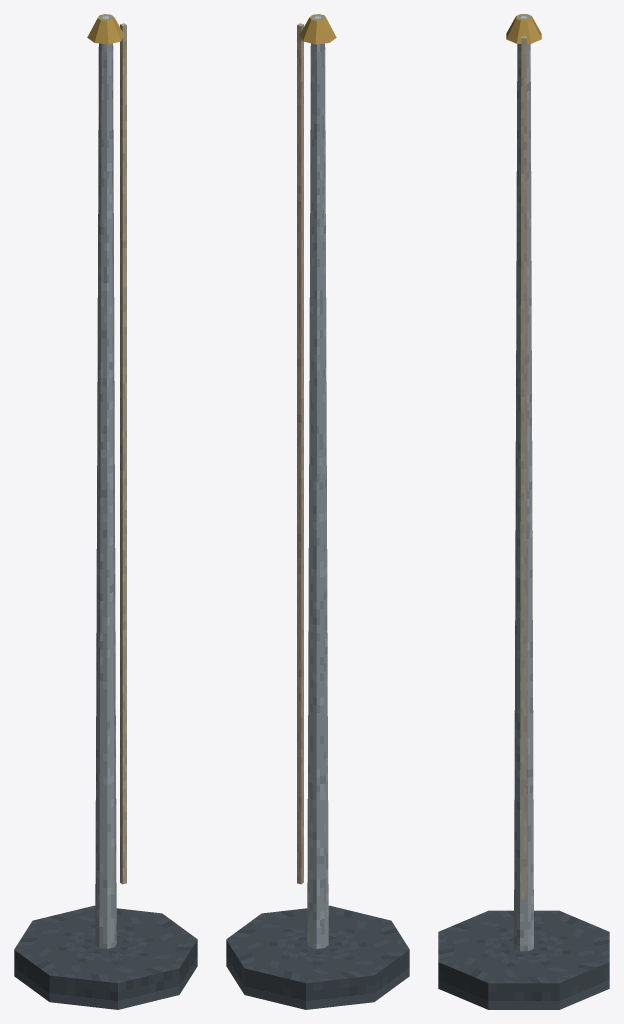
Rendered from f_indoor_flagpole.glb.
The picture shows the model from 3 angles, left to right: view 1: azimuth 30°, elevation 25°; view 2: azimuth 150°, elevation 25°; view 3: azimuth 270°, elevation 25°; orthographic projection.
Parts seen in each view (by area): view 1: block_pole, block_weighted-base, block_halyard, block_finial; view 2: block_pole, block_weighted-base, block_halyard, block_finial; view 3: block_weighted-base, block_pole, block_halyard, block_finial.
Boxes of the visible parts, x1=… form: block_pole: x1=95, y1=14, x2=116, y2=948; block_weighted-base: x1=14, y1=905, x2=197, y2=1009; block_halyard: x1=120, y1=23, x2=126, y2=884; block_finial: x1=87, y1=14, x2=124, y2=44; block_pole: x1=307, y1=14, x2=328, y2=948; block_weighted-base: x1=226, y1=905, x2=409, y2=1009; block_halyard: x1=297, y1=23, x2=303, y2=884; block_finial: x1=299, y1=14, x2=336, y2=44; block_weighted-base: x1=438, y1=910, x2=609, y2=1009; block_pole: x1=514, y1=14, x2=533, y2=951; block_halyard: x1=521, y1=36, x2=526, y2=899; block_finial: x1=506, y1=14, x2=541, y2=43.
Size of the model in its own units: 0.4065 by 2.5 by 0.4065.
1 material, 1 textured.
